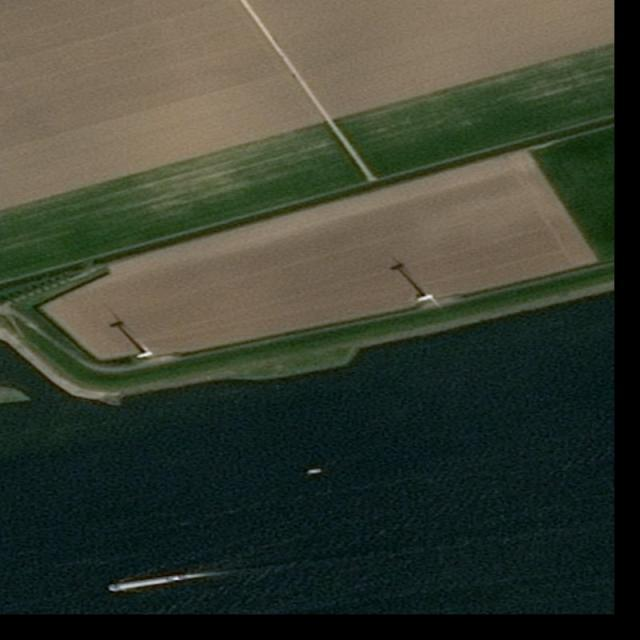ship: (108, 574, 186, 593), (306, 469, 324, 474)
